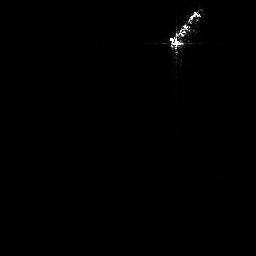ship: (167, 6, 204, 57)
